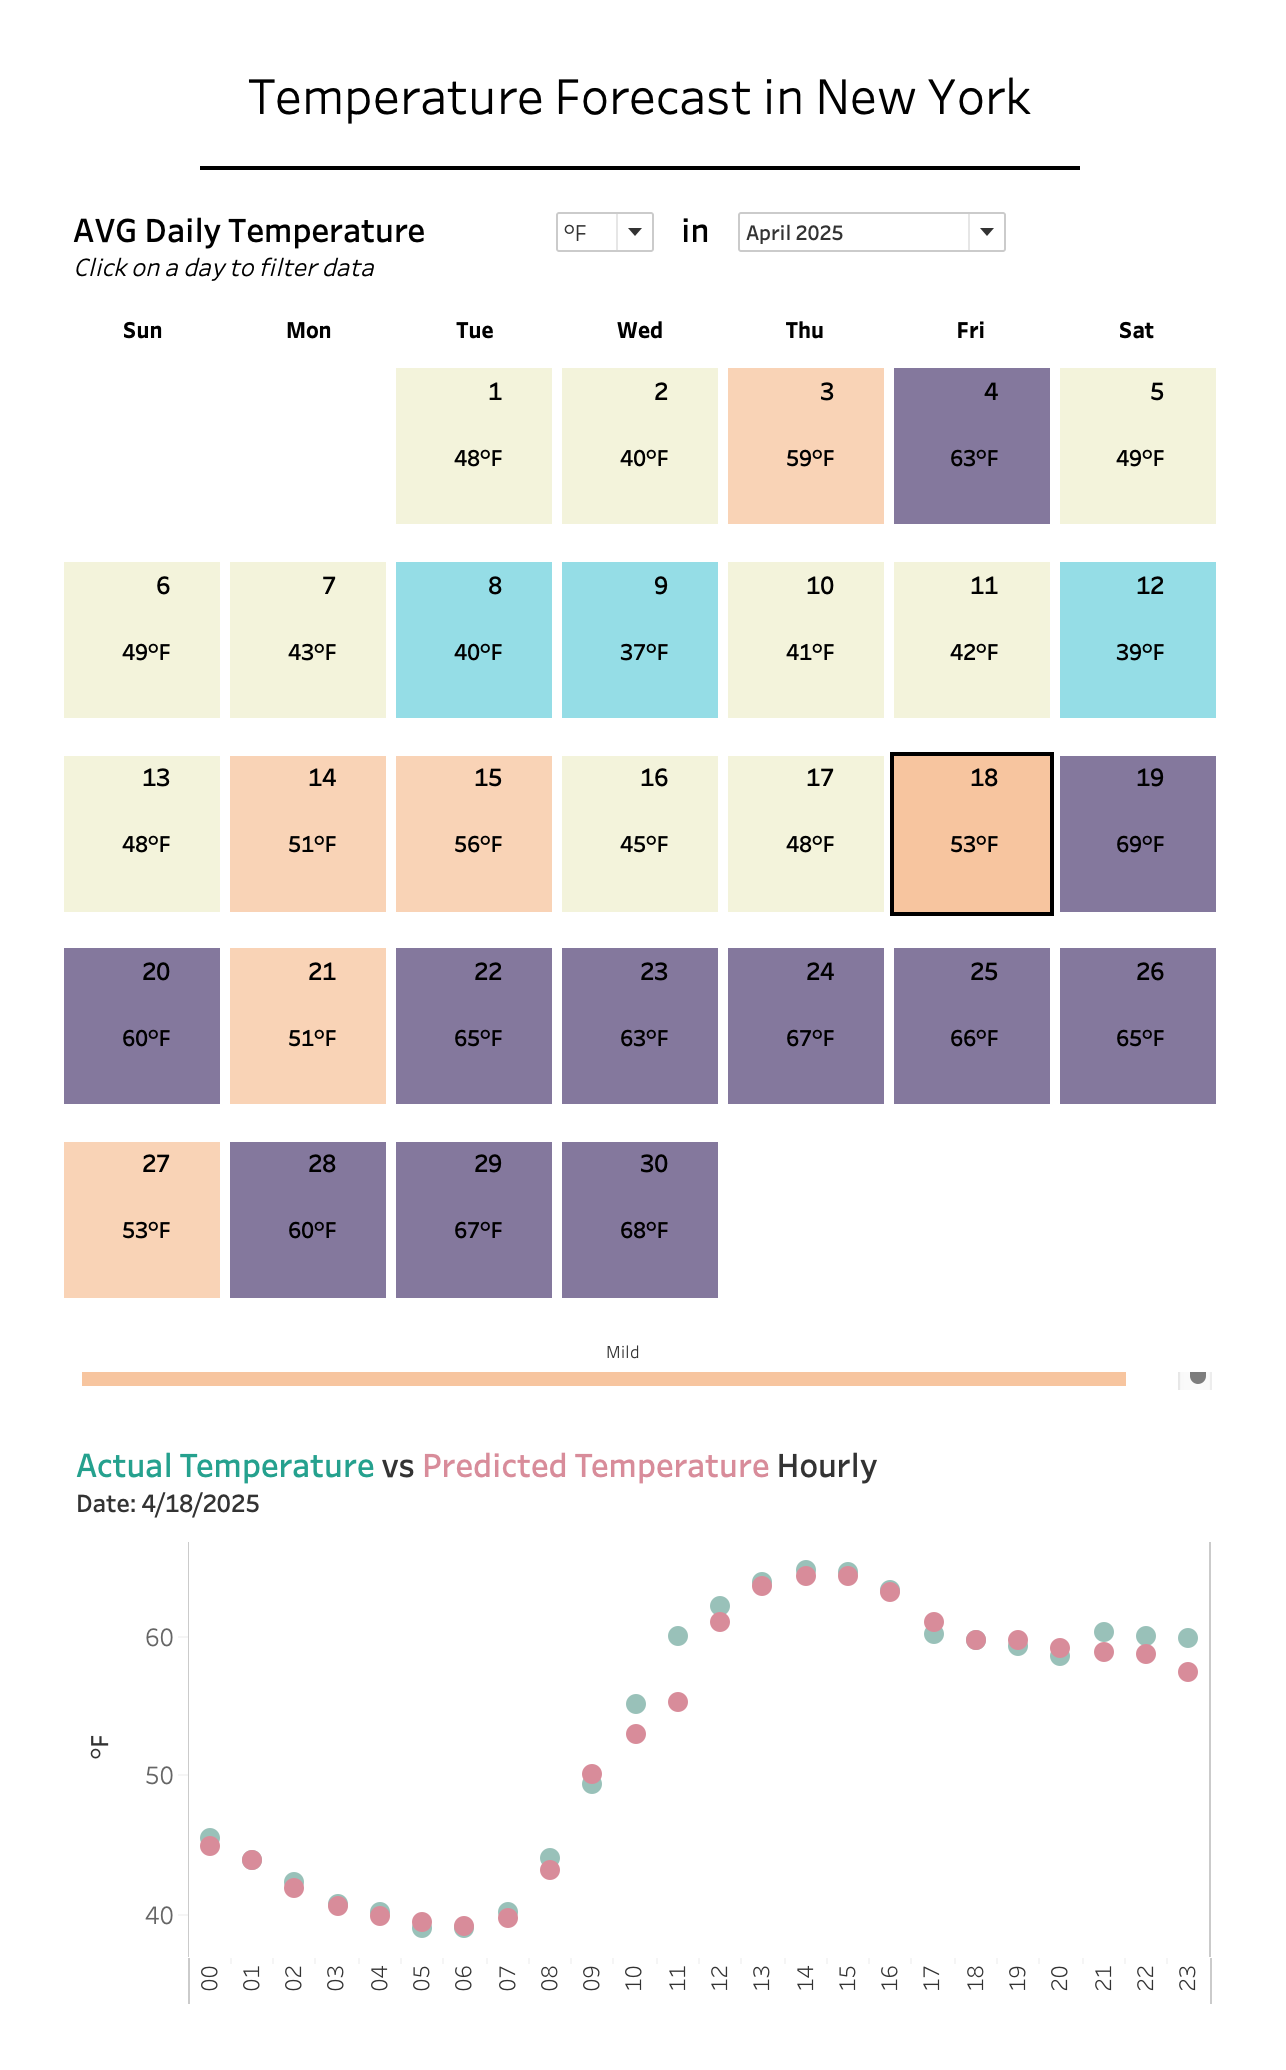

What the dashboard file says about the page in this screenshot:
{"tool":"tableau","page":{"name":"Temp Forecast","canvas":[600,1000],"ordinal":0},"visuals":[{"type":"text","box":[0,0,600,62]},{"type":"blank","box":[0,62,600,10]},{"type":"text","box":[10,78,241,56]},{"type":"parameter","param":"[Parameters].[Parameter 2]","box":[251,78,63,56]},{"type":"text","box":[314,78,28,56]},{"type":"filter","title":"Calendar","param":"[sqlproxy.06aflty0qioahp10ntb8f0ut0j5n].[time (Month / Year) Set]","box":[342,78,248,56]},{"type":"worksheet","title":"Calendar","mark":"Square","rows":["time"],"cols":["time"],"box":[0,138,600,503]},{"type":"worksheet","title":"color legend","mark":"GanttBar","cols":["Calculation_1119988971004014603","Calculation_926897137326551072"],"box":[0,641,600,45]},{"type":"worksheet","title":"not_null","mark":"Circle","rows":["Calculation_926897137335386149"],"cols":["time"],"box":[0,686,600,280]},{"type":"worksheet","title":"incl_null","mark":"Circle","rows":["Calculation_926897137335107620","Calculation_926897137335386149"],"cols":["time"],"box":[0,686,600,314]}]}

Visuals, with their boxes on the page's 600x1000 design canvas (x1, y1, x2, y2). These are canvas units, not pixel positions in the 1286x2070 screenshot, which may show the page scaled, cropped or inside an application window:
text: [x1=0, y1=0, x2=600, y2=62]
blank: [x1=0, y1=62, x2=600, y2=72]
text: [x1=10, y1=78, x2=251, y2=134]
parameter: [x1=251, y1=78, x2=314, y2=134]
text: [x1=314, y1=78, x2=342, y2=134]
"Calendar" filter: [x1=342, y1=78, x2=590, y2=134]
"Calendar" worksheet (Square marks): [x1=0, y1=138, x2=600, y2=641]
"color legend" worksheet (GanttBar marks): [x1=0, y1=641, x2=600, y2=686]
"not_null" worksheet (Circle marks): [x1=0, y1=686, x2=600, y2=966]
"incl_null" worksheet (Circle marks): [x1=0, y1=686, x2=600, y2=1000]
